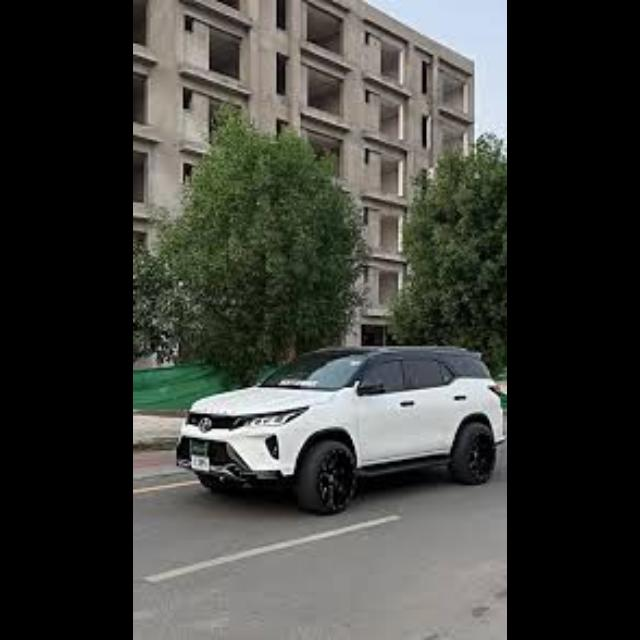vehicles: (174, 338, 506, 520)
